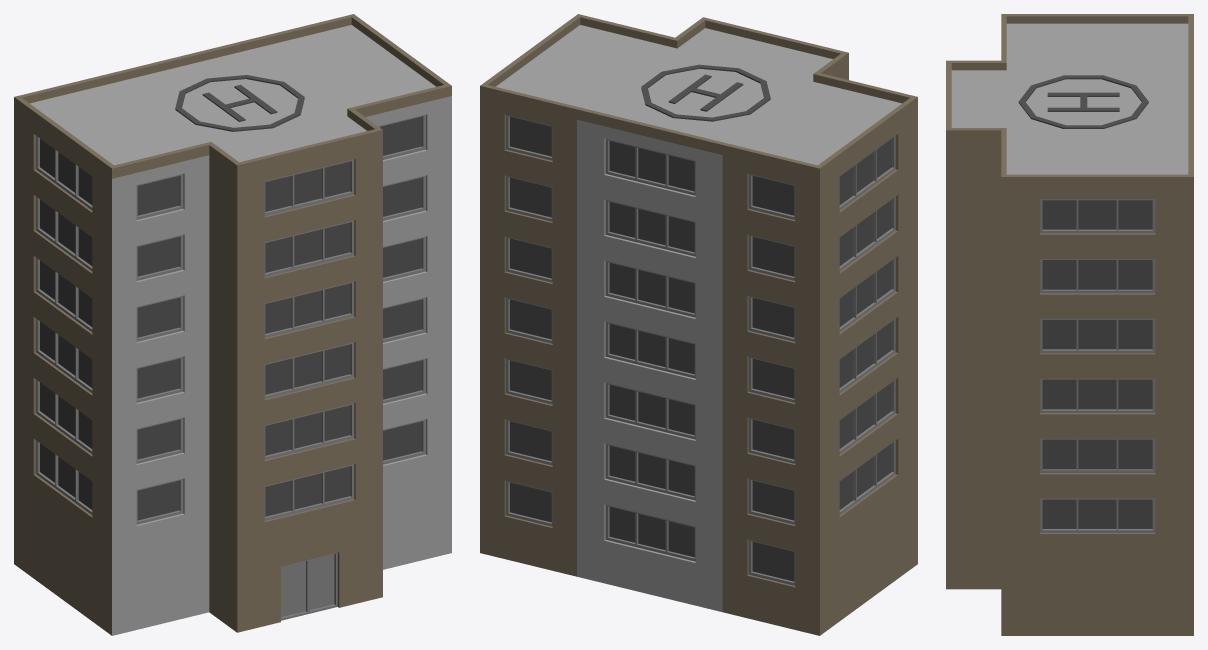
The model's file is Buiding_9.fbx.
The picture shows the model from 3 angles, left to right: view 1: azimuth 30°, elevation 25°; view 2: azimuth 150°, elevation 25°; view 3: azimuth 270°, elevation 25°; orthographic projection.
Parts seen in each view (by area): view 1: Building_9; view 2: Building_9; view 3: Building_9.
Boxes of the visible parts, left/top/right/bottom form: Building_9: left=14, top=14, right=451, bottom=635; Building_9: left=480, top=14, right=917, bottom=635; Building_9: left=946, top=14, right=1193, bottom=635.
Size of the model in its own units: 7000 by 9200 by 4500.
